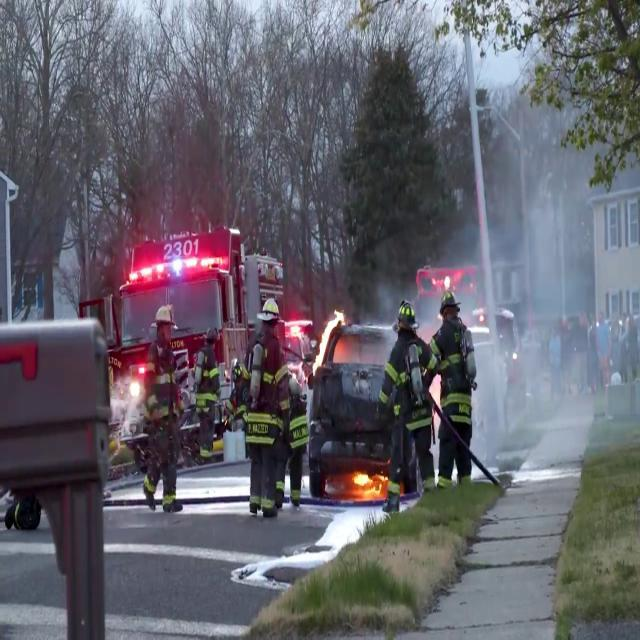Fire: (310, 305, 344, 375), (348, 462, 389, 502)
Smoke: (455, 82, 640, 480)
